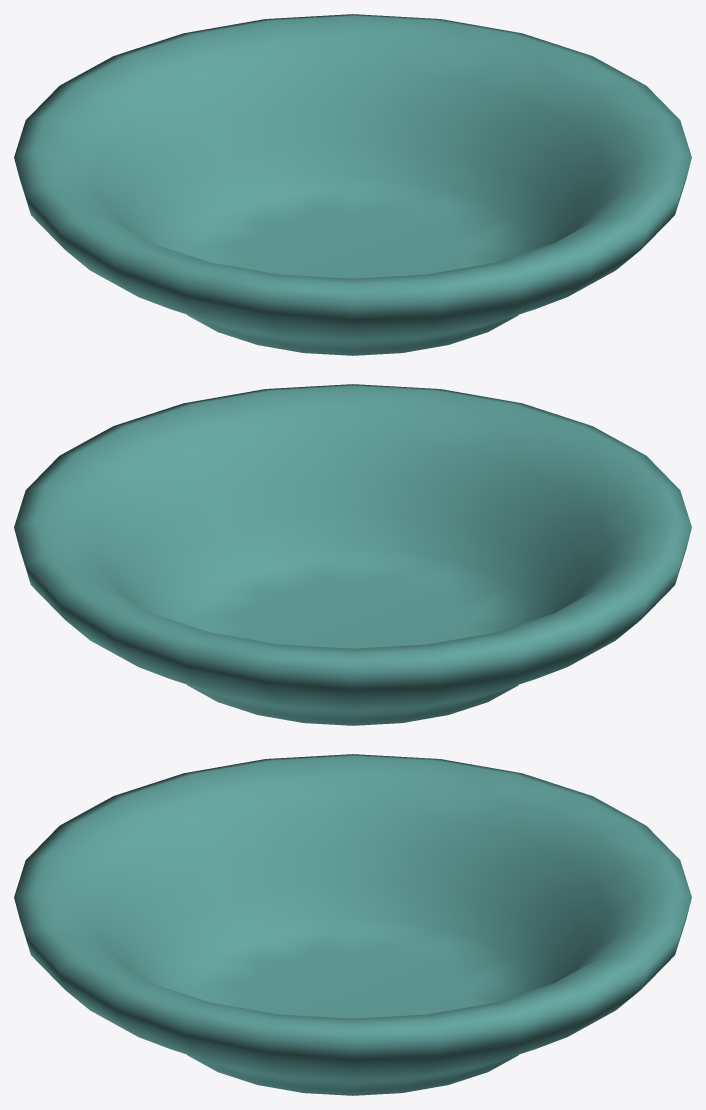
File: 85_single_plate.glb
3 renders of one model, top to bottom at view 1: azimuth 30°, elevation 25°; view 2: azimuth 150°, elevation 25°; view 3: azimuth 270°, elevation 25°, orthographic.
Visible parts, largest first — view 1: Circle; view 2: Circle; view 3: Circle.
Part boxes in pixels (bbox=[...]): Circle: bbox=[14, 14, 691, 355]; Circle: bbox=[14, 384, 691, 725]; Circle: bbox=[14, 754, 691, 1095].
Size of the model in its own units: 0.5041 by 0.1045 by 0.5041.
